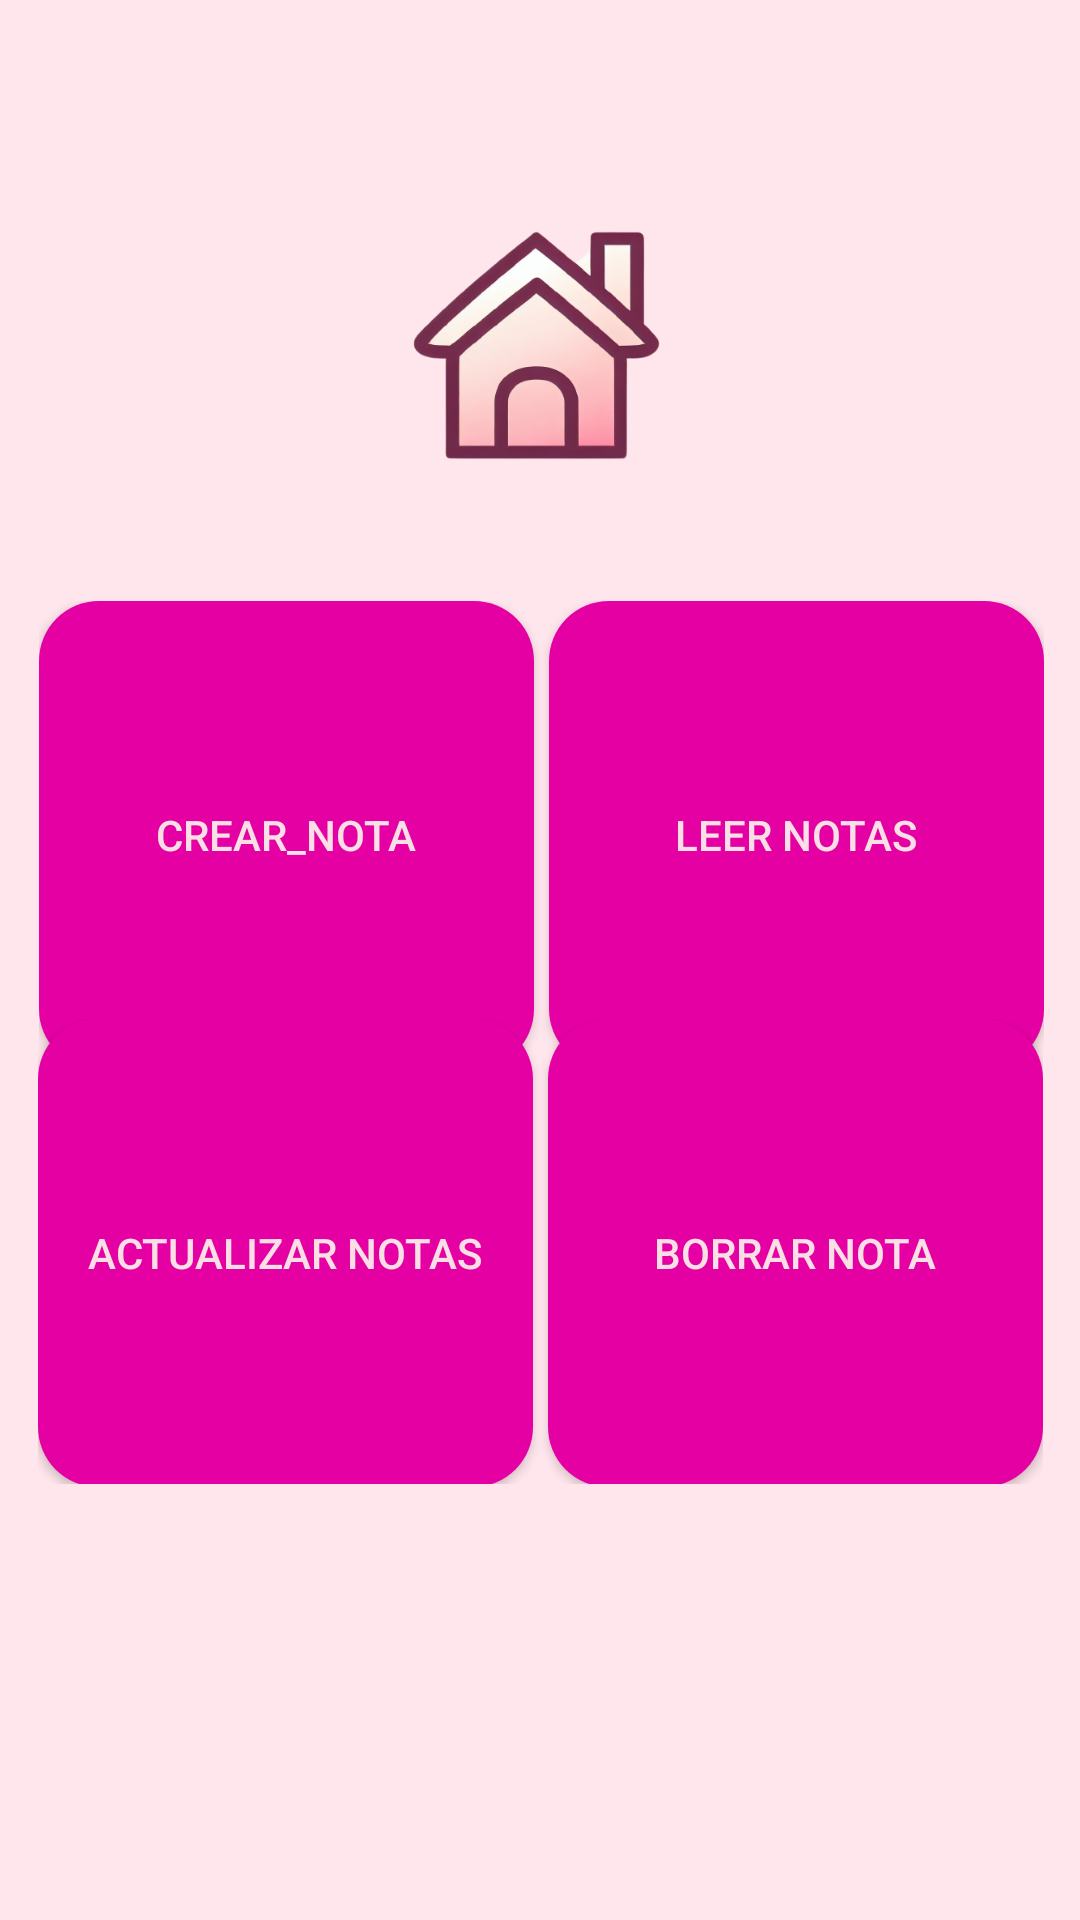

Locate icon controls on the screen. Image size 1080w x 1920h, boxes as (x1, y1, x2, y2).
casa: (414, 232, 660, 459)
